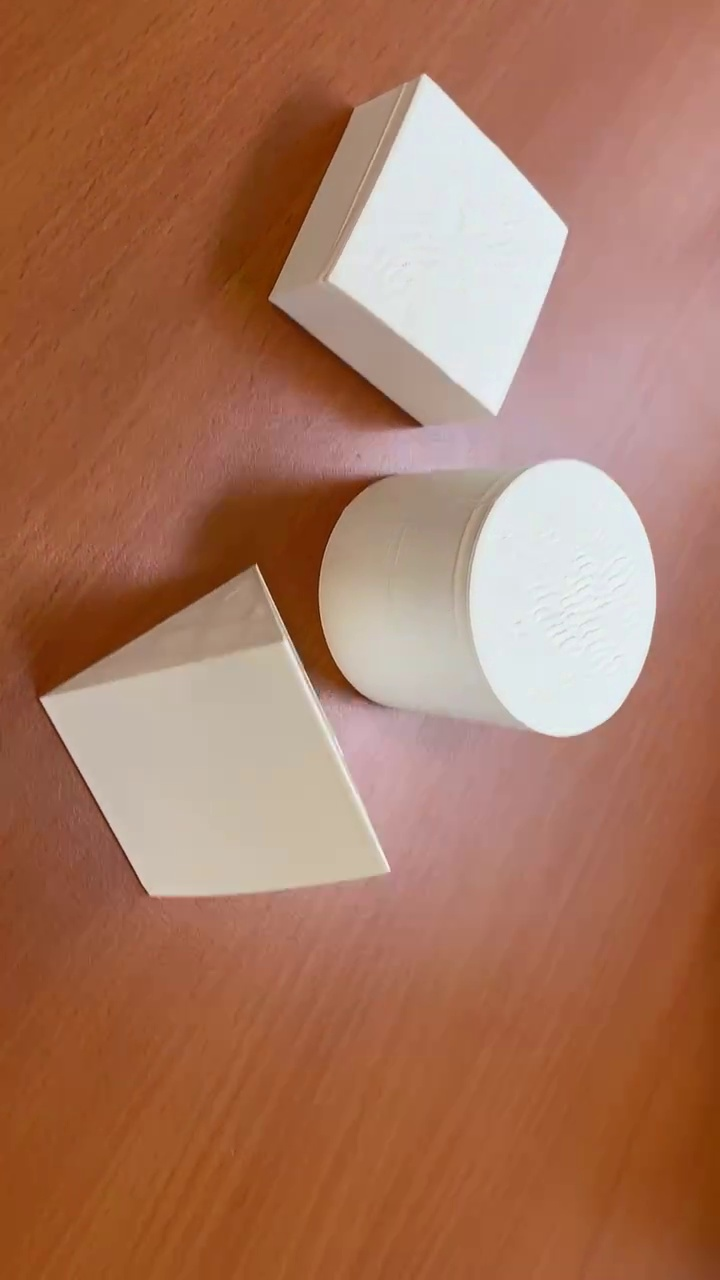Cube_short: (263, 70, 570, 429)
Cylinder: (316, 461, 659, 735)
Triangle: (38, 560, 391, 898)
